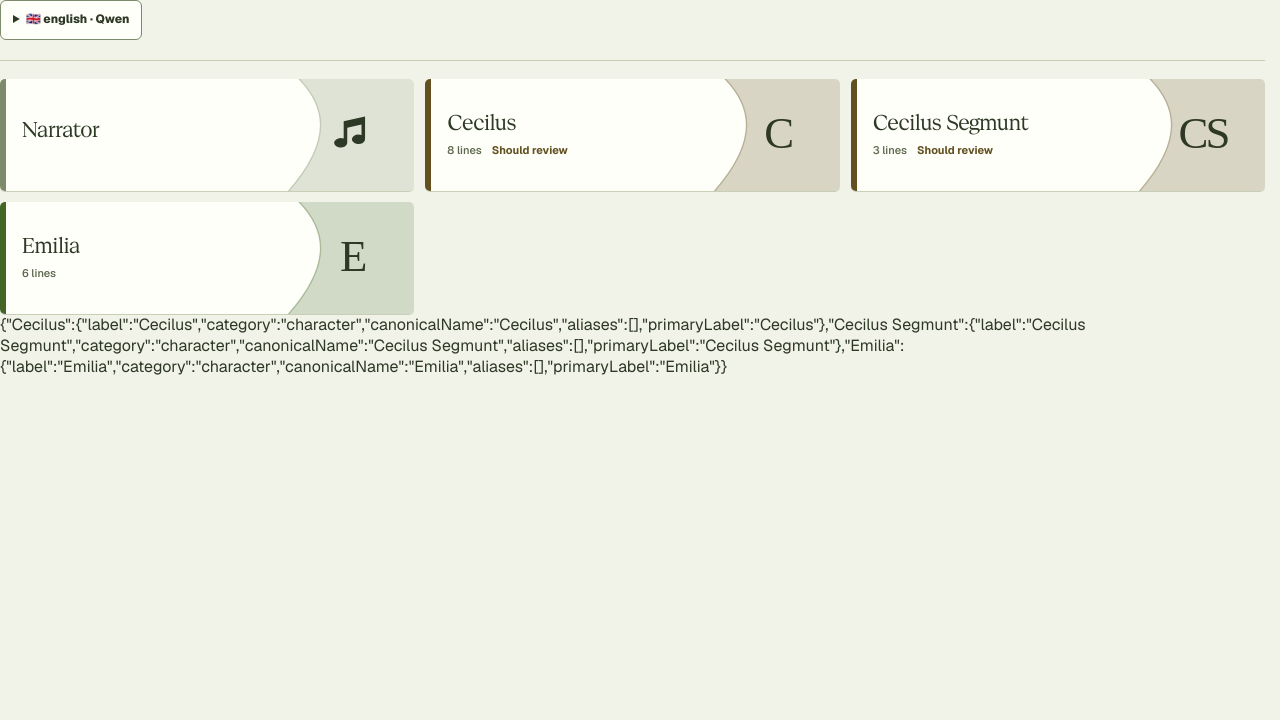
it: CastIdentityReview › uses only the X once a cast member is reviewed
What coordinates should you click on to do the following:
click the button with aria-label "Inspect Emilia"
I would click on:
 (51, 246)
Its box is [0,202,414,314].
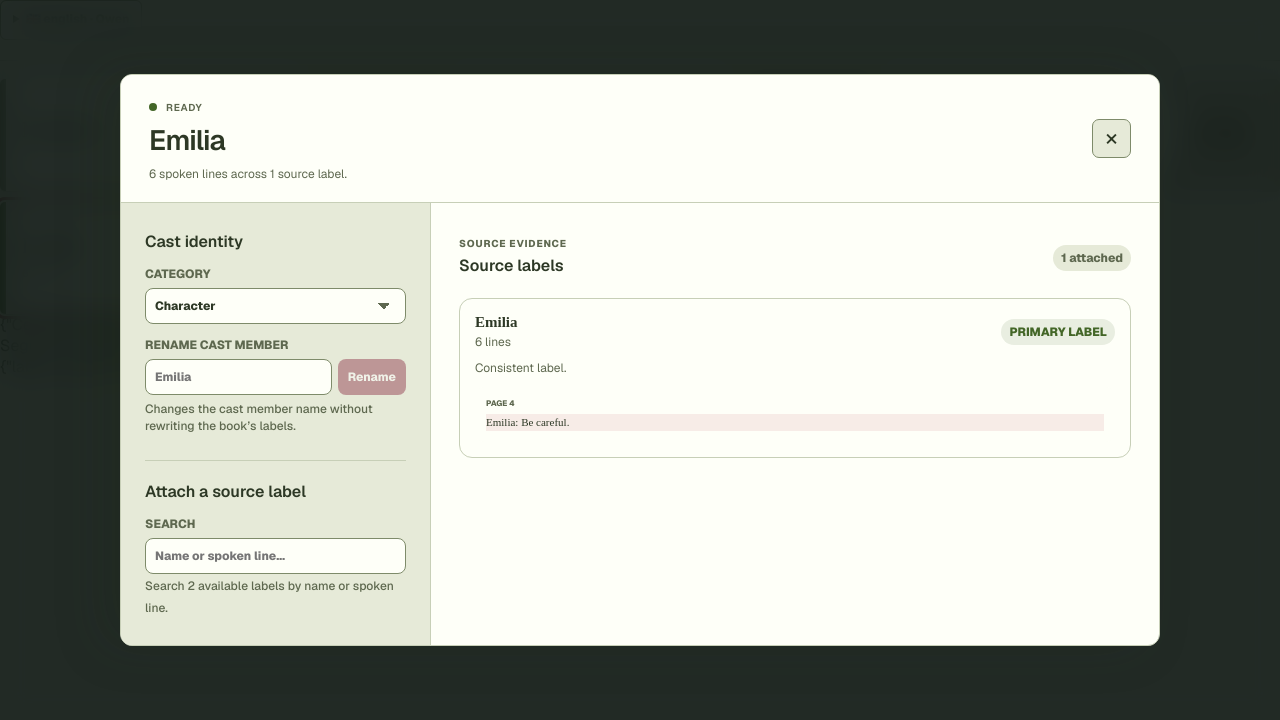
Check: the dialog named "Inspect Emilia" shows "Ready", box [166,101,202,114]
